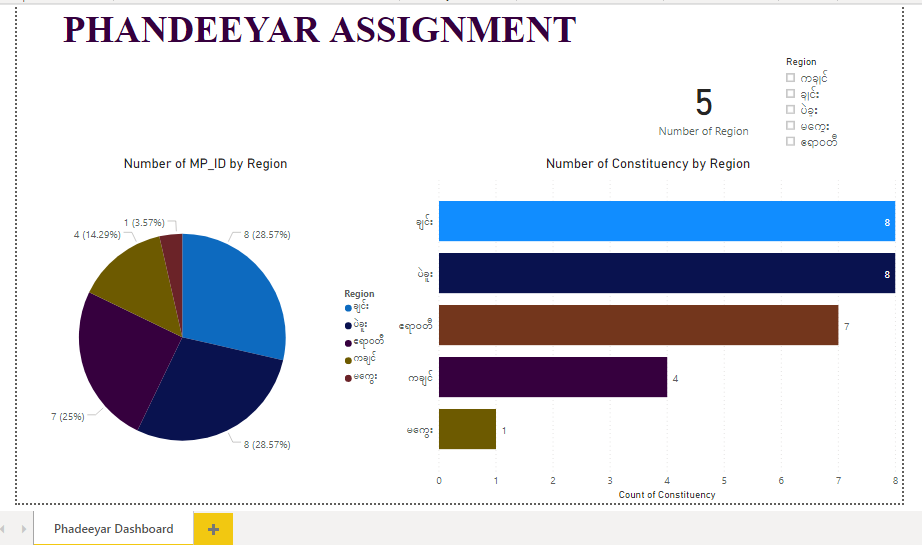

What the dashboard file says about the page in this screenshot:
{"tool":"powerbi","page":{"name":"Phadeeyar Dashboard","canvas":[1280,720],"ordinal":0},"visuals":[{"type":"textbox","box":[160.5,0,855.9,114.2],"z":0},{"type":"slicer","fields":{"Values":["Phandeeyar.Region"]},"box":[1098.8,69.4,180.7,167.7],"z":1000},{"type":"pieChart","title":"Number of MP_ID by Region","fields":{"Category":["Phandeeyar.Region"],"Y":["Phandeeyar.Count of MP_ID"]},"box":[0,251.6,608.7,468.4],"z":3000},{"type":"barChart","title":"Number of Constituency by Region","fields":{"Category":["Phandeeyar.Region"],"Y":["Phandeeyar.Count of Constituency"]},"box":[608.7,251.6,670.8,468.4],"z":4000}]}

Visuals, with their boxes on the page's 1280x720 design canvas (x1, y1, x2, y2). These are canvas units, not pixel positions in the 922x545 screenshot, which may show the page scaled, cropped or inside an application window:
textbox: x1=160, y1=0, x2=1016, y2=114
slicer - Phandeeyar.Region: x1=1099, y1=69, x2=1280, y2=237
"Number of MP_ID by Region" pieChart: x1=0, y1=252, x2=609, y2=720
"Number of Constituency by Region" barChart: x1=609, y1=252, x2=1280, y2=720
